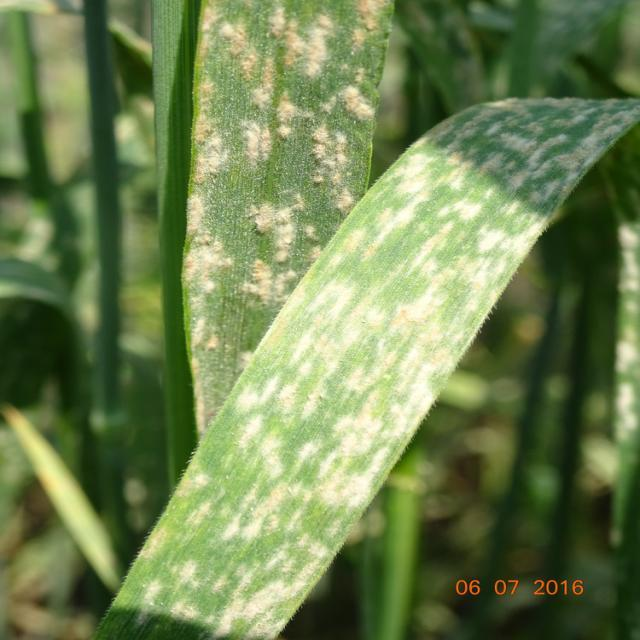wheat-powdery-mildew: (90, 97, 640, 640), (181, 0, 395, 438)
